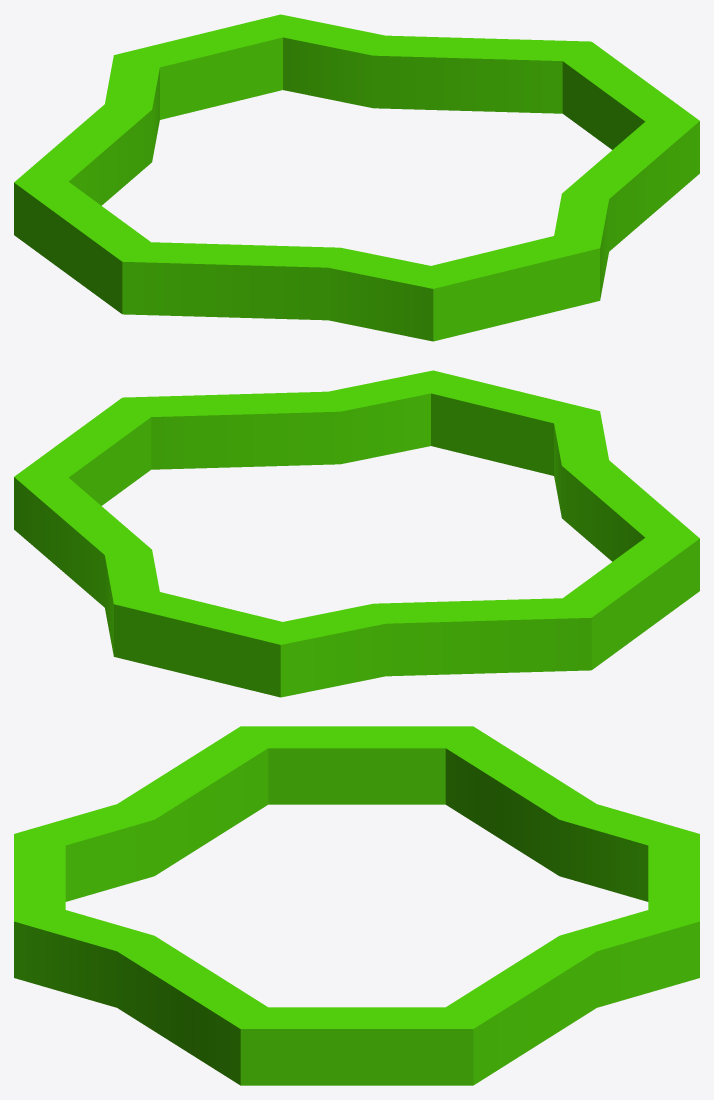
The model's file is shtuka_8.fbx.
3 renders of one model, top to bottom at view 1: azimuth 30°, elevation 25°; view 2: azimuth 150°, elevation 25°; view 3: azimuth 270°, elevation 25°, orthographic. The views are drawn at different scales.
Parts seen in each view (by area): view 1: shtuka.002; view 2: shtuka.002; view 3: shtuka.002.
Boxes of the visible parts, bbox=[...] form: shtuka.002: bbox=[14, 14, 699, 341]; shtuka.002: bbox=[14, 370, 699, 697]; shtuka.002: bbox=[14, 726, 699, 1085].
Size of the model in its own units: 17.49 by 1.52 by 16.75.
